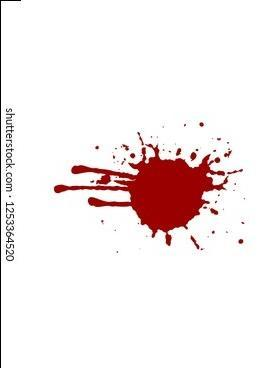Fire: (53, 143, 229, 247)
